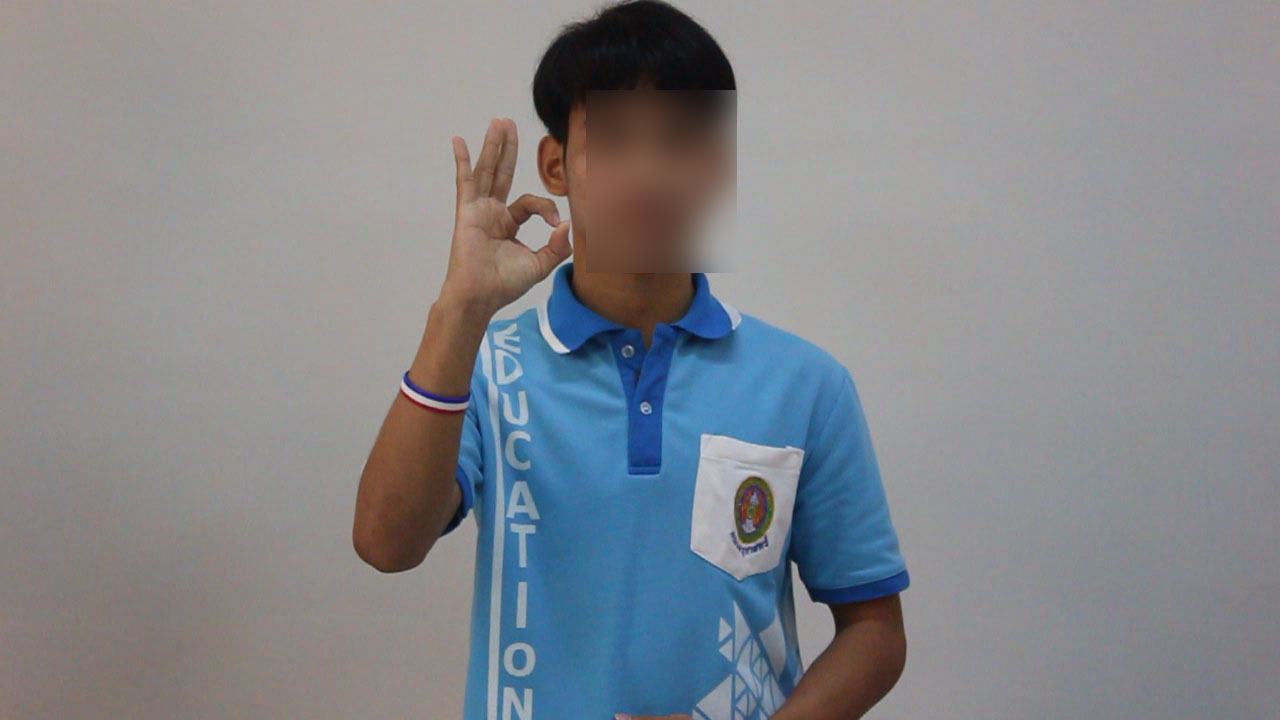for: (415, 109, 578, 325)
